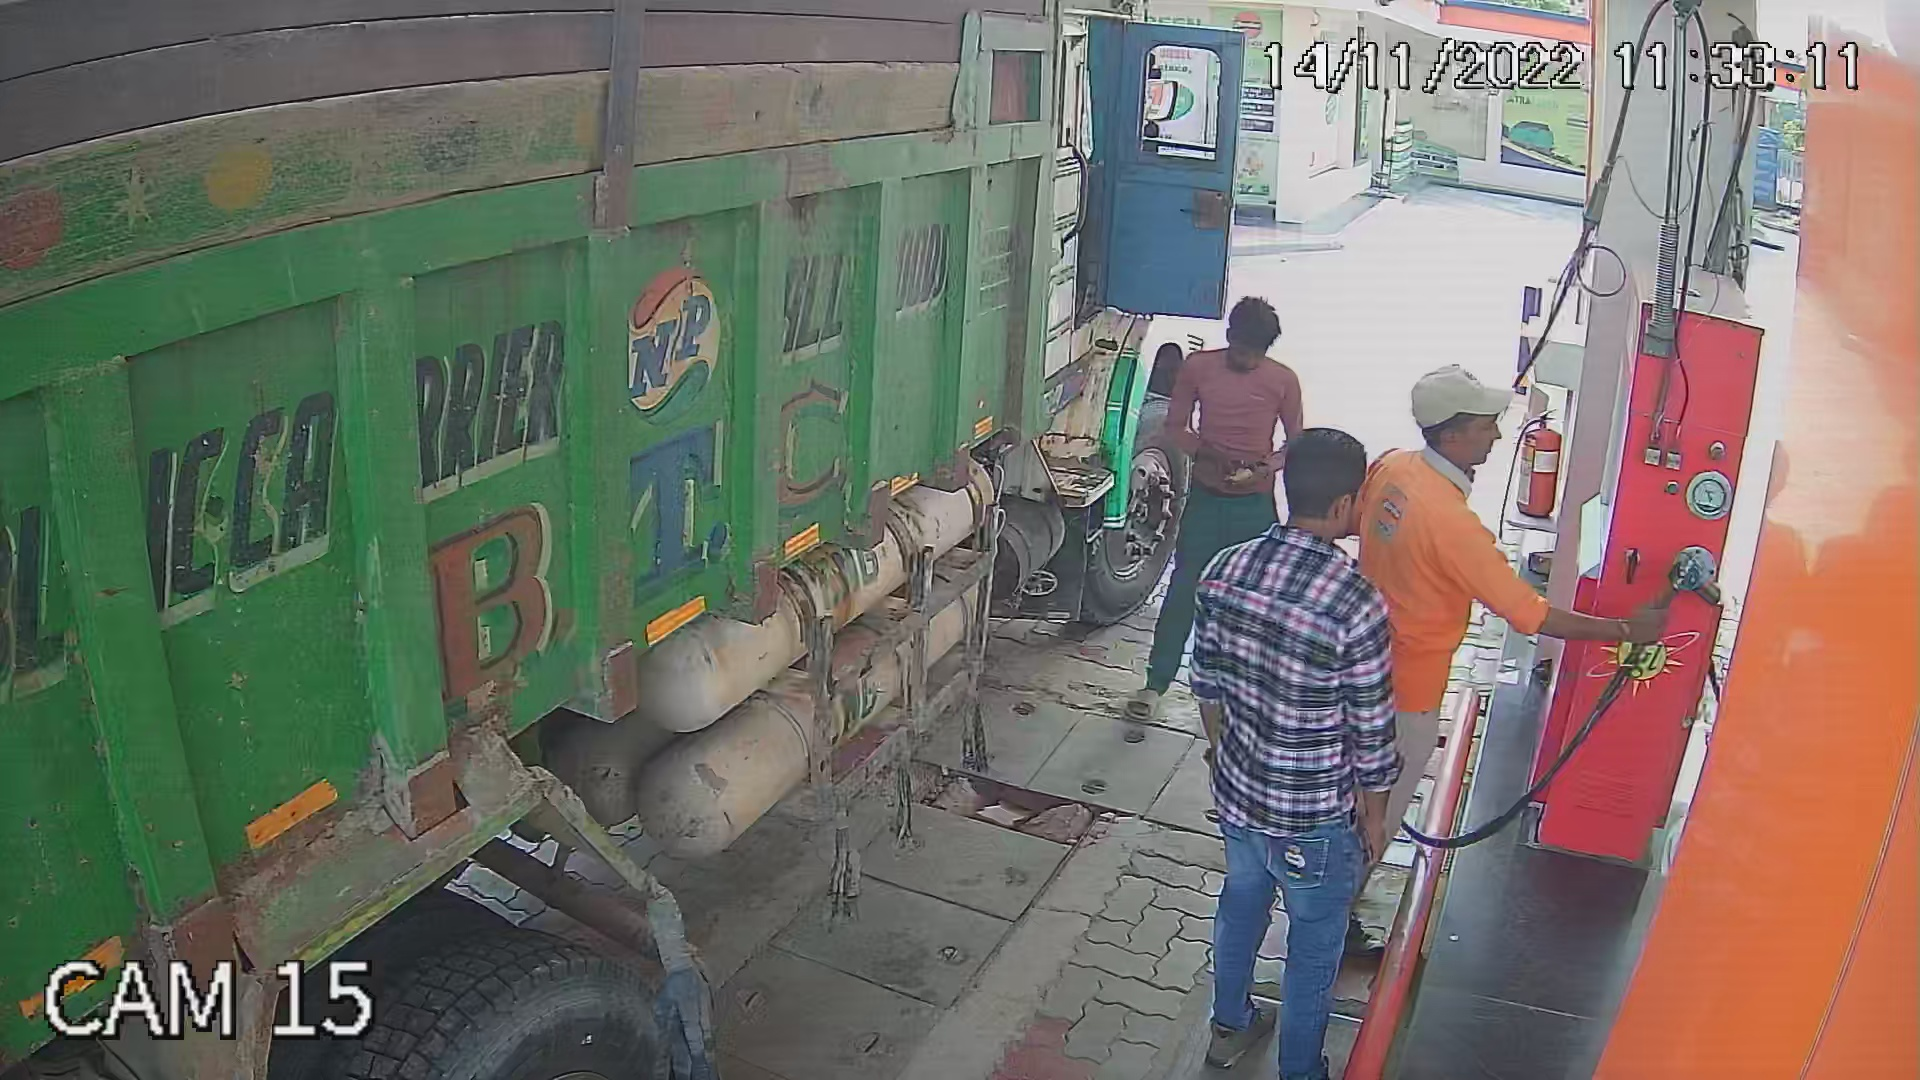HMV: (0, 3, 1241, 1076)
Others: (1338, 361, 1524, 973)
